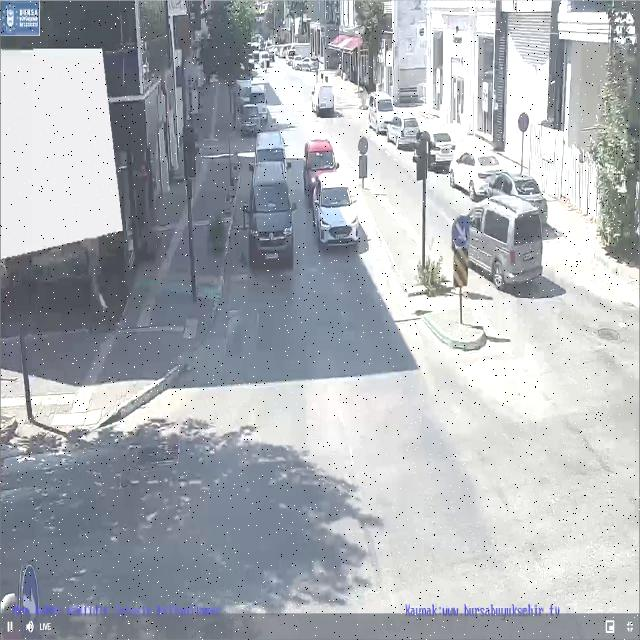car: (456, 194, 545, 290), (248, 159, 296, 274), (312, 167, 360, 250), (448, 146, 504, 200), (386, 111, 420, 153)
